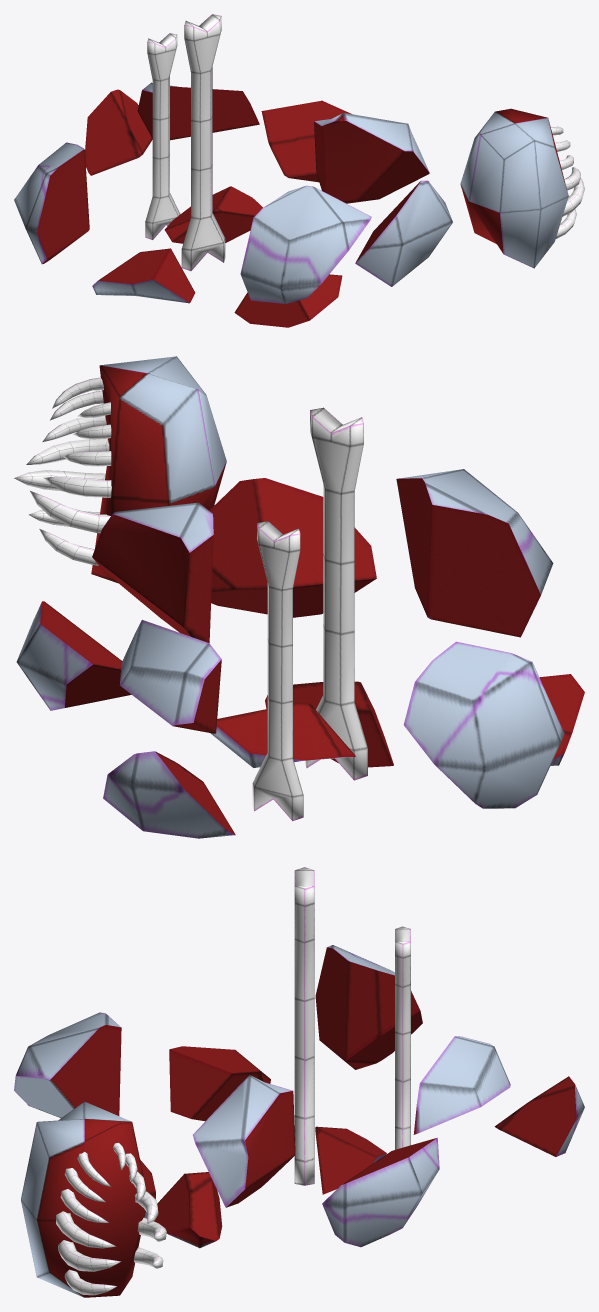
Rendered from effect2.FBX.
The picture shows the model from 3 angles, top to bottom: view 1: azimuth 30°, elevation 25°; view 2: azimuth 150°, elevation 25°; view 3: azimuth 270°, elevation 25°; orthographic projection. The views are drawn at different scales.
Visible parts, largest first — view 1: Object017, Object002, Object001, Cylinder003, Object006, Object003, Cylinder002, Object007, Object009, Object005, Object008, Object010 (+1 smaller); view 2: Object017, Object006, Object002, Cylinder003, Object003, Object001, Cylinder002, Object008, Object007, Object009, Object004, Object010 (+1 smaller); view 3: Object017, Object001, Object002, Object006, Object009, Cylinder003, Object008, Object005, Object007, Object010, Cylinder002, Object004.
Boxes of the visible parts, x1,y1,x2,y2 form: Object017: [460, 108, 584, 268]; Object002: [240, 185, 371, 303]; Object001: [314, 113, 429, 203]; Cylinder003: [181, 14, 225, 271]; Object006: [14, 142, 89, 264]; Object003: [355, 180, 452, 286]; Cylinder002: [145, 33, 180, 239]; Object007: [85, 89, 152, 175]; Object009: [261, 100, 351, 182]; Object005: [92, 248, 195, 303]; Object008: [137, 82, 259, 140]; Object010: [234, 274, 342, 327]; Object017: [14, 356, 226, 582]; Object006: [403, 641, 564, 808]; Object002: [396, 469, 553, 637]; Cylinder003: [305, 407, 367, 780]; Object003: [209, 478, 376, 617]; Object001: [92, 502, 213, 642]; Cylinder002: [252, 521, 303, 821]; Object008: [119, 620, 221, 733]; Object007: [103, 751, 235, 838]; Object009: [16, 601, 131, 710]; Object004: [210, 702, 355, 767]; Object010: [265, 681, 393, 767]; Object017: [21, 1101, 166, 1297]; Object001: [193, 1075, 295, 1207]; Object002: [14, 1012, 121, 1117]; Object006: [315, 945, 422, 1069]; Object009: [322, 1137, 439, 1247]; Cylinder003: [294, 867, 314, 1185]; Object008: [413, 1036, 510, 1134]; Object005: [169, 1046, 270, 1121]; Object007: [494, 1076, 584, 1156]; Object010: [156, 1172, 222, 1248]; Cylinder002: [395, 926, 410, 1149]; Object004: [315, 1126, 386, 1194].
Size of the model in its own units: 67.2 by 38.56 by 58.98.
